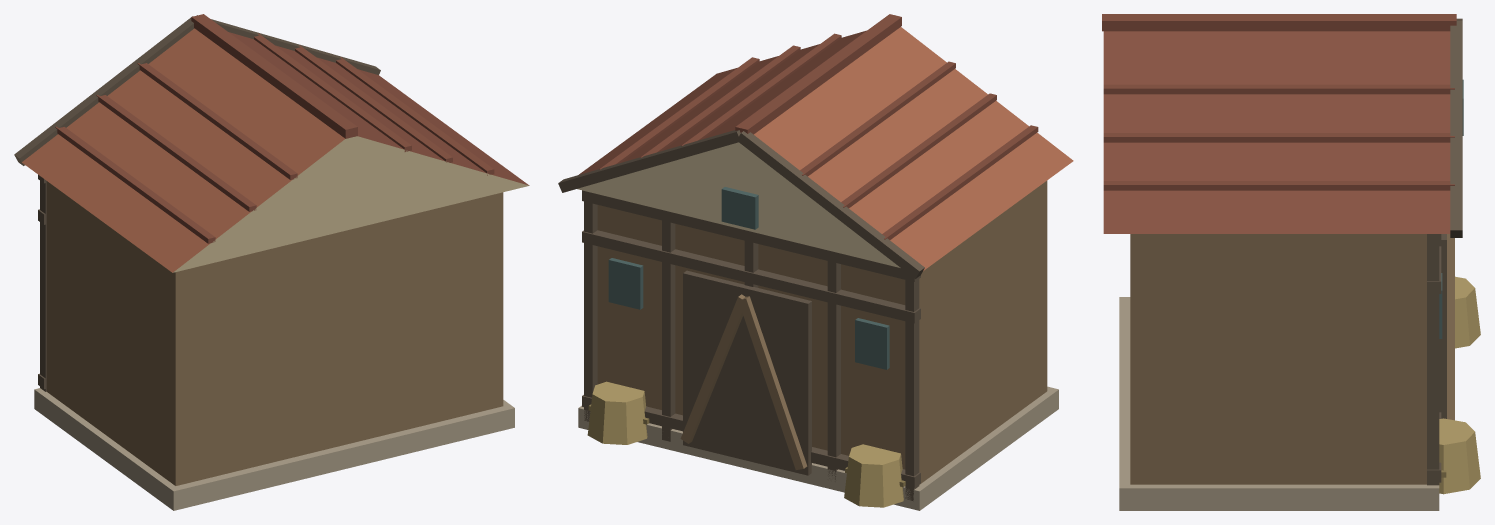
File: Town_Granary.fbx
3 views of the same model, side by side, from view 1: azimuth 30°, elevation 25°; view 2: azimuth 150°, elevation 25°; view 3: azimuth 270°, elevation 25° (orthographic). The views are drawn at different scales.
Parts seen in each view (by area): view 1: Town_Granary; view 2: Town_Granary; view 3: Town_Granary.
Part boxes in pixels (left/top/right/bottom): Town_Granary: left=14, top=14, right=529, bottom=510; Town_Granary: left=558, top=14, right=1073, bottom=510; Town_Granary: left=1102, top=14, right=1480, bottom=510.
Size of the model in its own units: 5.02 by 4.59 by 3.96.
